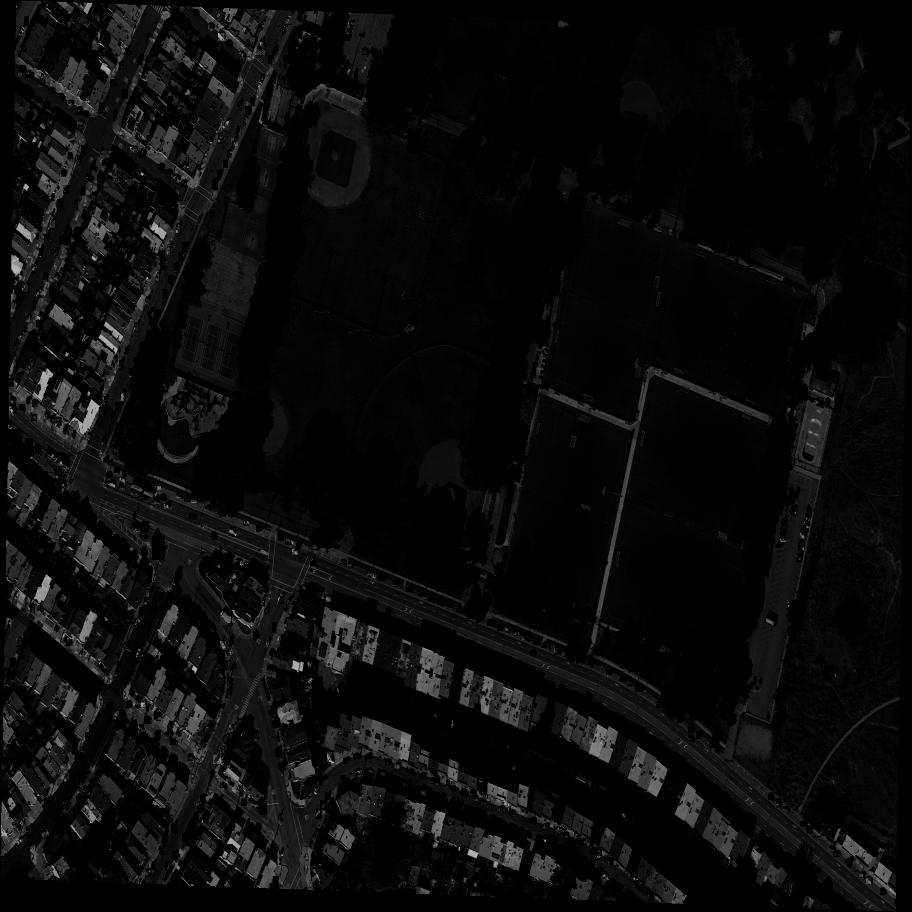large-vehicle: (46, 453, 69, 474), (131, 483, 156, 498), (152, 536, 167, 560), (219, 610, 234, 626), (18, 448, 35, 458), (58, 479, 68, 488)
small-vehicle: (259, 805, 268, 815), (154, 602, 163, 612), (213, 755, 222, 765), (79, 772, 88, 782), (171, 822, 179, 833), (273, 876, 280, 888), (25, 439, 34, 448), (173, 175, 182, 184), (14, 431, 24, 439), (36, 289, 44, 299), (272, 46, 280, 56), (57, 201, 65, 211), (139, 149, 147, 159), (327, 752, 335, 762), (321, 800, 329, 810), (275, 748, 283, 758), (159, 261, 167, 270), (18, 333, 26, 342), (119, 540, 128, 548), (223, 122, 231, 131), (121, 90, 129, 99), (63, 185, 71, 194), (58, 236, 67, 244), (37, 79, 45, 88), (27, 91, 36, 99), (676, 715, 684, 724), (688, 725, 696, 734), (30, 843, 38, 852), (145, 869, 154, 877), (63, 424, 70, 434), (220, 641, 227, 651), (79, 649, 86, 659), (10, 658, 17, 668), (316, 592, 326, 599), (178, 252, 184, 263), (32, 400, 40, 408), (18, 404, 26, 412), (218, 34, 226, 42), (22, 285, 30, 293), (795, 554, 803, 562), (655, 701, 663, 709), (240, 800, 248, 808), (106, 704, 114, 712), (89, 725, 97, 733), (169, 738, 177, 746), (467, 611, 475, 619), (488, 619, 496, 627), (497, 624, 505, 632), (9, 406, 16, 415), (278, 595, 285, 604), (301, 586, 310, 593), (203, 41, 212, 48), (246, 106, 253, 115), (236, 127, 243, 136), (227, 150, 234, 159), (77, 120, 86, 127), (708, 742, 715, 751), (800, 530, 807, 539), (314, 785, 321, 794), (76, 797, 83, 806), (26, 826, 33, 835), (119, 360, 125, 370), (213, 180, 219, 190), (64, 119, 74, 125), (597, 847, 603, 857), (182, 833, 188, 843), (99, 408, 106, 416), (26, 396, 33, 404), (10, 397, 17, 405), (25, 315, 32, 323), (141, 549, 149, 556), (264, 607, 272, 614), (210, 534, 218, 541), (48, 289, 55, 297), (54, 276, 62, 283), (222, 160, 229, 168), (72, 230, 80, 237), (110, 79, 117, 87), (192, 10, 200, 17), (50, 220, 57, 228), (19, 66, 27, 73), (140, 170, 147, 178), (575, 839, 583, 846), (768, 841, 776, 848), (879, 888, 887, 895), (576, 657, 584, 664), (200, 794, 207, 802), (28, 603, 35, 611), (225, 653, 232, 661), (144, 717, 152, 724), (156, 713, 163, 721), (42, 829, 49, 837), (378, 575, 386, 582), (370, 51, 377, 59), (0, 857, 8, 864), (172, 852, 179, 860), (135, 358, 141, 367), (35, 445, 41, 454), (134, 323, 140, 332), (149, 308, 155, 317), (287, 16, 293, 25), (282, 26, 288, 35), (250, 97, 256, 106), (232, 138, 238, 147), (138, 56, 144, 65), (81, 146, 87, 155), (91, 160, 97, 169), (80, 187, 86, 196), (144, 598, 150, 607), (339, 684, 345, 693), (64, 773, 70, 782), (30, 605, 36, 614), (554, 649, 563, 655), (145, 296, 150, 306), (177, 223, 182, 233), (136, 649, 141, 659), (166, 863, 171, 873), (278, 534, 285, 541), (292, 549, 299, 556), (228, 529, 235, 536), (158, 496, 165, 503), (238, 53, 245, 60), (208, 24, 215, 31), (67, 101, 74, 108), (76, 107, 83, 114), (43, 102, 50, 109), (130, 146, 137, 153), (181, 181, 188, 188), (355, 769, 362, 776), (325, 793, 332, 800), (343, 758, 350, 765), (223, 736, 230, 743), (84, 789, 91, 796), (75, 754, 82, 761), (57, 418, 63, 426), (129, 369, 135, 377), (162, 290, 168, 298), (244, 563, 252, 569), (235, 559, 243, 565), (253, 632, 259, 640), (113, 468, 121, 474), (101, 161, 109, 167), (61, 170, 67, 178), (131, 165, 139, 171), (540, 838, 548, 844), (558, 827, 564, 835), (589, 849, 597, 855), (317, 811, 323, 819), (785, 502, 793, 508), (776, 800, 782, 808), (828, 846, 836, 852), (839, 900, 845, 908), (649, 893, 655, 901), (141, 700, 147, 708), (803, 526, 809, 534), (635, 687, 643, 693), (229, 725, 235, 733), (254, 733, 260, 741), (187, 755, 195, 761), (437, 599, 445, 605), (465, 654, 473, 660), (16, 839, 24, 845), (115, 402, 120, 411), (111, 412, 116, 421), (55, 418, 60, 427), (10, 378, 15, 387), (147, 34, 152, 43), (32, 264, 37, 273), (50, 417, 56, 424), (31, 415, 38, 421), (37, 315, 44, 321), (36, 320, 42, 327), (154, 311, 160, 318), (150, 319, 156, 326), (172, 583, 178, 590), (256, 526, 263, 532), (119, 479, 126, 485), (131, 492, 138, 498), (190, 514, 197, 520), (234, 67, 240, 74), (228, 63, 235, 69), (255, 50, 262, 56), (86, 174, 92, 181), (67, 153, 73, 160), (44, 235, 50, 242), (58, 93, 64, 100), (35, 98, 42, 104), (165, 171, 172, 177), (152, 180, 159, 186), (390, 778, 397, 784), (461, 806, 467, 813), (581, 861, 588, 867), (353, 753, 360, 759), (418, 774, 425, 780), (834, 851, 841, 857), (634, 881, 640, 888), (688, 734, 694, 741), (605, 670, 612, 676), (696, 732, 702, 739), (49, 798, 55, 805), (138, 725, 144, 732), (85, 734, 91, 741), (126, 701, 132, 708), (164, 734, 171, 740), (44, 799, 50, 806), (428, 596, 435, 602), (476, 616, 482, 623), (533, 640, 540, 646), (325, 596, 332, 602), (344, 35, 351, 41), (362, 49, 368, 56), (103, 436, 108, 444), (55, 248, 60, 256), (44, 274, 49, 282), (15, 342, 19, 352), (169, 275, 174, 283), (272, 623, 276, 633), (193, 33, 201, 38), (24, 17, 29, 25), (39, 249, 44, 257), (26, 73, 34, 78), (139, 607, 143, 617), (320, 776, 325, 784), (806, 828, 814, 833), (807, 507, 812, 515), (799, 542, 804, 550), (787, 603, 792, 611), (336, 689, 341, 697), (339, 27, 344, 35), (354, 71, 358, 81), (157, 272, 161, 281), (145, 275, 151, 281), (174, 263, 178, 272), (285, 538, 291, 544), (218, 171, 222, 180), (171, 11, 177, 17), (52, 191, 58, 197), (542, 824, 548, 830), (369, 769, 375, 775), (866, 878, 872, 884), (261, 39, 265, 48), (768, 794, 774, 800), (118, 662, 124, 668), (152, 861, 156, 870), (141, 496, 148, 501), (146, 176, 153, 181), (509, 811, 516, 816), (553, 829, 560, 834), (524, 832, 531, 837), (384, 760, 391, 765), (394, 764, 401, 769), (602, 874, 609, 879), (618, 888, 625, 893), (804, 520, 809, 527), (487, 663, 494, 668), (17, 639, 22, 646), (342, 17, 347, 24), (345, 62, 350, 69), (243, 117, 247, 125), (52, 111, 60, 115), (239, 786, 243, 794), (125, 677, 129, 685), (108, 482, 114, 487), (164, 504, 170, 509), (55, 187, 60, 193), (82, 112, 88, 117), (158, 165, 164, 170), (529, 819, 535, 824), (479, 800, 485, 805), (342, 775, 347, 781), (430, 778, 436, 783), (800, 822, 806, 827), (604, 856, 609, 862), (715, 749, 721, 754), (197, 803, 202, 809), (369, 572, 375, 577), (392, 581, 398, 586), (344, 13, 349, 19), (146, 705, 150, 712), (155, 486, 162, 490), (258, 82, 262, 89), (78, 156, 82, 163), (117, 156, 124, 160), (221, 747, 225, 754), (25, 866, 29, 873), (159, 847, 163, 854), (121, 392, 124, 401), (104, 396, 107, 405), (167, 246, 170, 255), (183, 242, 186, 251), (348, 64, 351, 73), (296, 543, 301, 548), (122, 472, 127, 477), (176, 493, 181, 498), (226, 41, 231, 46), (380, 773, 385, 778), (790, 511, 795, 516), (247, 716, 252, 721), (506, 628, 511, 633), (33, 302, 37, 308), (111, 543, 114, 551), (259, 570, 265, 574), (110, 151, 116, 155), (421, 792, 427, 796), (316, 680, 322, 684), (620, 678, 626, 682), (221, 784, 227, 788), (255, 827, 261, 831), (522, 636, 528, 640), (135, 619, 138, 626), (476, 660, 483, 663), (127, 642, 130, 649), (244, 522, 249, 526), (184, 498, 189, 502), (65, 251, 70, 255), (239, 101, 241, 111), (219, 134, 221, 144), (50, 88, 54, 93), (470, 790, 475, 794), (450, 787, 455, 791), (514, 631, 519, 635), (347, 28, 352, 32), (119, 485, 125, 488), (100, 104, 102, 113), (97, 176, 100, 182), (75, 200, 77, 209), (51, 195, 54, 201), (324, 700, 327, 706), (340, 746, 343, 752), (126, 49, 129, 55), (781, 525, 787, 528), (229, 686, 231, 695), (419, 593, 425, 596), (89, 433, 91, 441), (213, 509, 217, 513), (114, 110, 116, 118), (402, 783, 406, 787), (318, 691, 322, 695), (366, 755, 370, 759), (408, 770, 412, 774), (860, 874, 864, 878), (407, 588, 411, 592), (152, 502, 157, 505), (192, 500, 197, 503), (220, 511, 223, 516), (499, 807, 502, 812), (513, 828, 518, 831), (461, 791, 466, 794), (792, 507, 797, 510), (783, 808, 788, 811), (781, 520, 786, 523), (347, 563, 352, 566), (447, 603, 452, 606), (74, 430, 76, 437), (47, 412, 49, 419), (147, 331, 149, 338), (269, 56, 271, 63), (646, 889, 648, 896), (311, 562, 314, 566), (267, 639, 269, 645), (206, 508, 210, 511), (562, 849, 566, 852), (638, 887, 641, 891), (776, 545, 780, 548), (806, 514, 808, 520), (281, 727, 285, 730), (64, 800, 67, 804), (543, 644, 547, 647), (106, 475, 111, 477), (472, 796, 477, 798), (780, 539, 785, 541), (5, 670, 7, 675), (340, 561, 345, 563), (349, 23, 354, 25), (126, 347, 127, 356), (781, 532, 784, 535), (588, 661, 591, 664), (529, 652, 532, 655), (21, 26, 22, 34), (155, 711, 156, 719), (457, 609, 461, 611), (75, 510, 76, 517), (120, 63, 121, 70), (108, 719, 109, 726), (342, 58, 343, 65), (503, 823, 505, 826), (563, 834, 566, 836), (279, 817, 280, 823), (262, 75, 263, 80), (148, 592, 149, 597), (447, 780, 448, 785), (437, 782, 437, 783)
